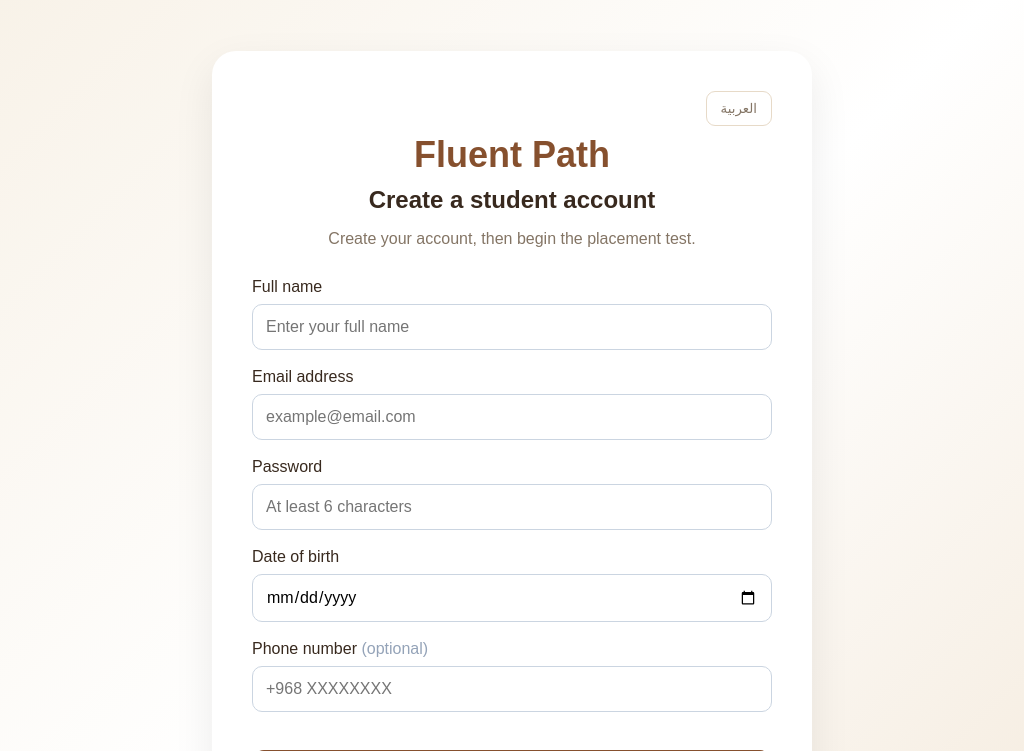
Test case: student registration onboarding › supports English registration and carries the language into placement
The image size is (1024, 751).
Expected: the heading "Create a student account" is shown, [369,186,655,213]
Type "New Student" into the field named "fullName". click: (512, 327)
box: [252,304,772,350]
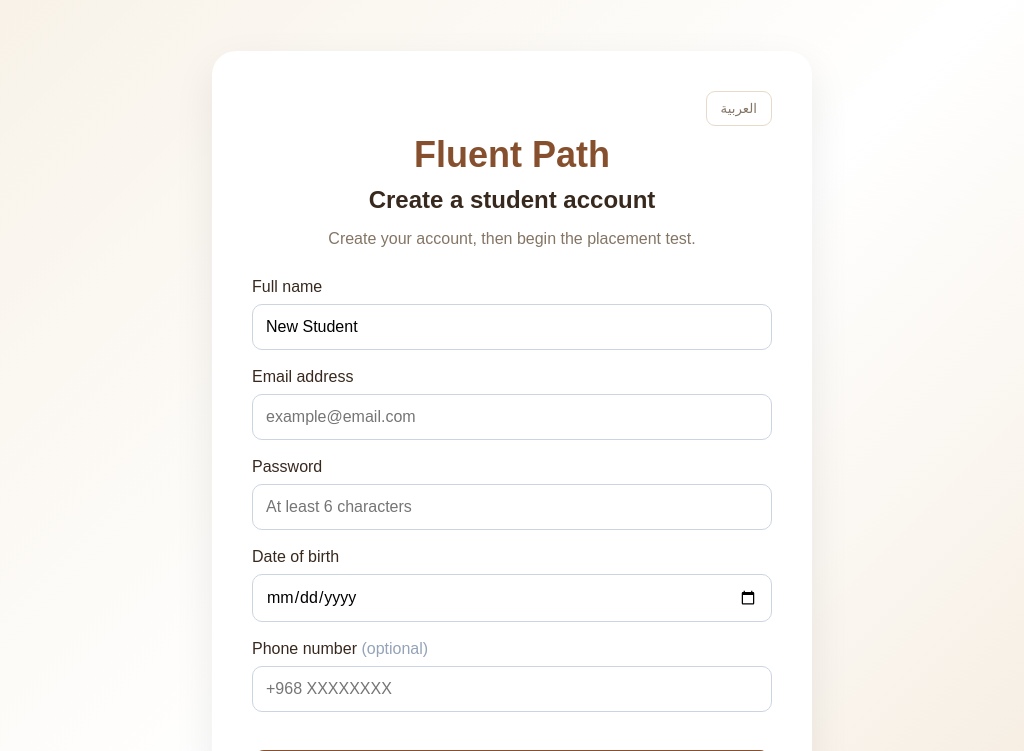
Type "new.student@test.local" into the field named "email". click: (512, 417)
box: [252,394,772,440]
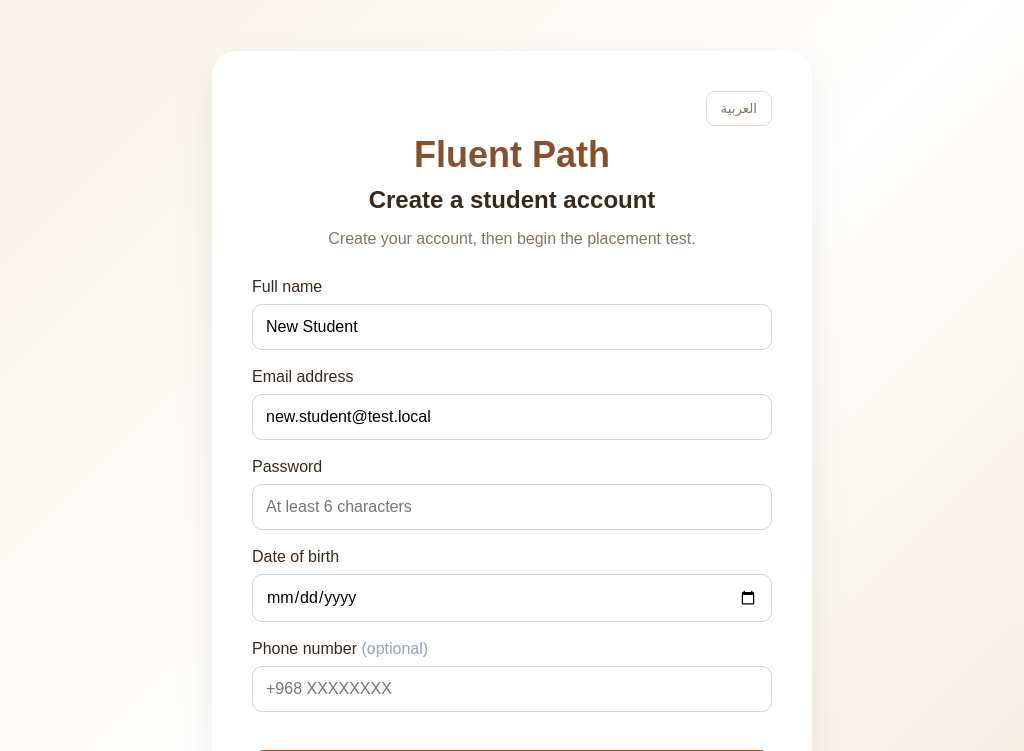
Type "safe-test-password" into the password field named "password". click: (512, 507)
box: [252,484,772,530]
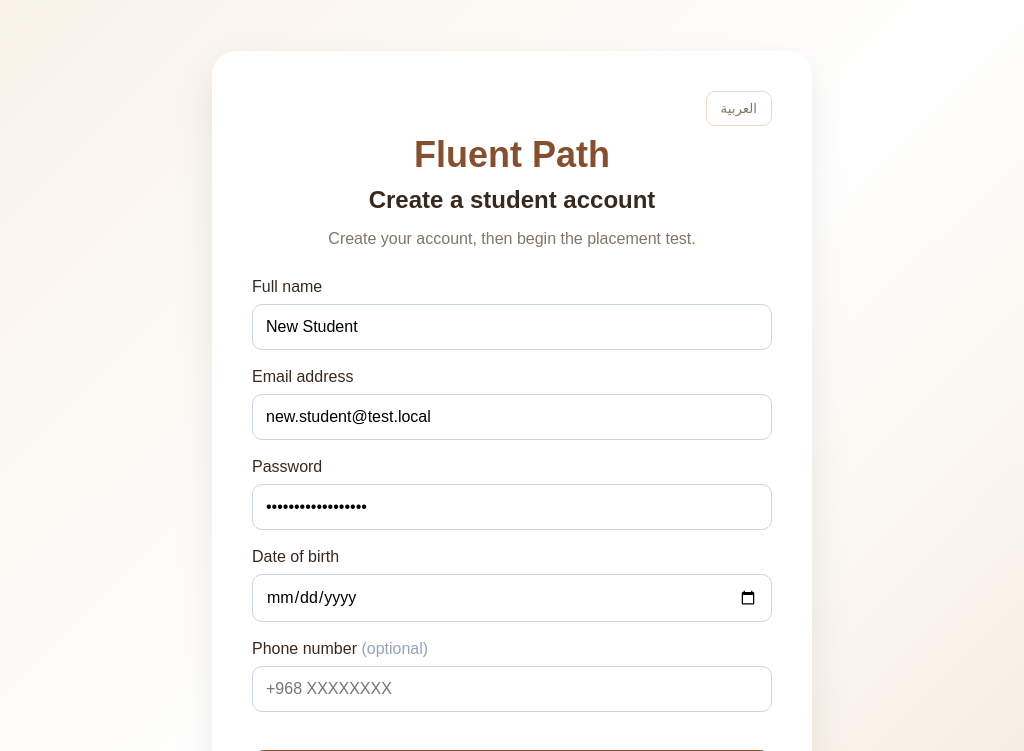
Type "2000-01-01" into the date field named "dateOfBirth". click: (512, 598)
box: [252,574,772,622]
(page scrolled)
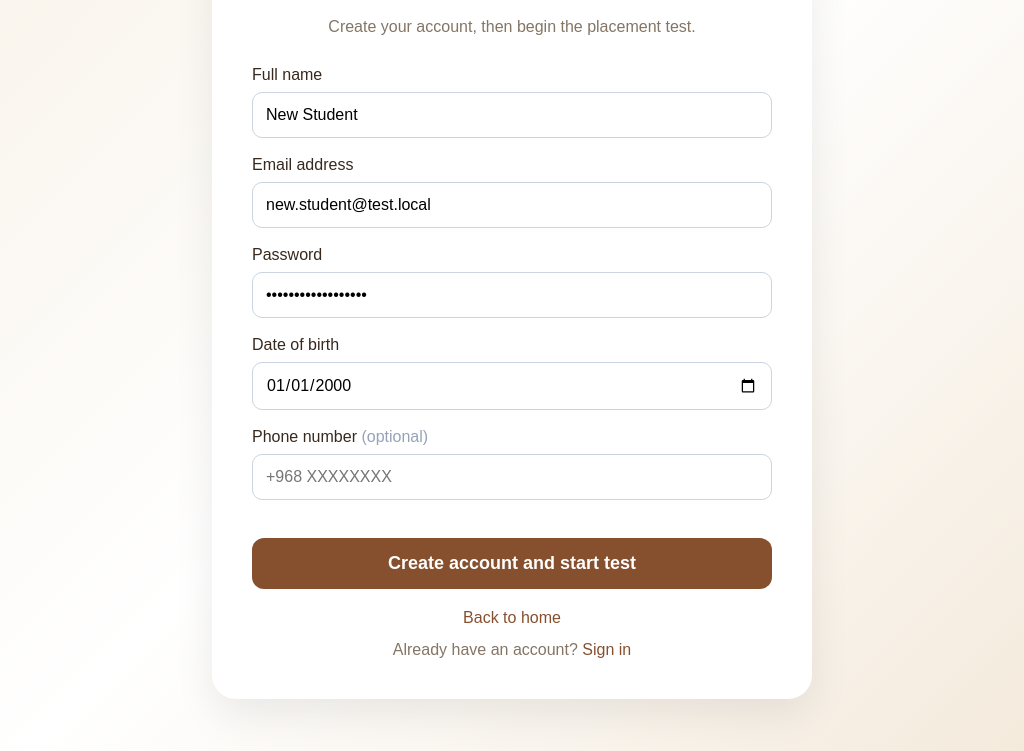
Click the button "Create account and start test". click: (512, 564)
box: [252,538,772,589]
(page scrolled)
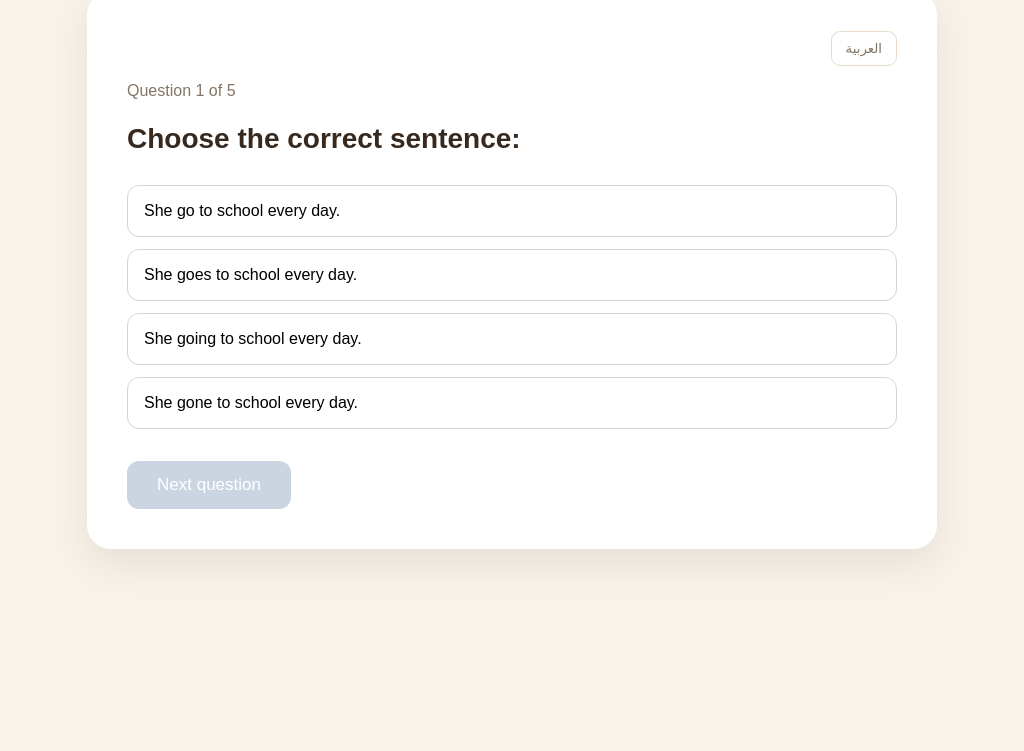
Now the text "Question 1 of 5" is shown, box [127,82,236,99]
